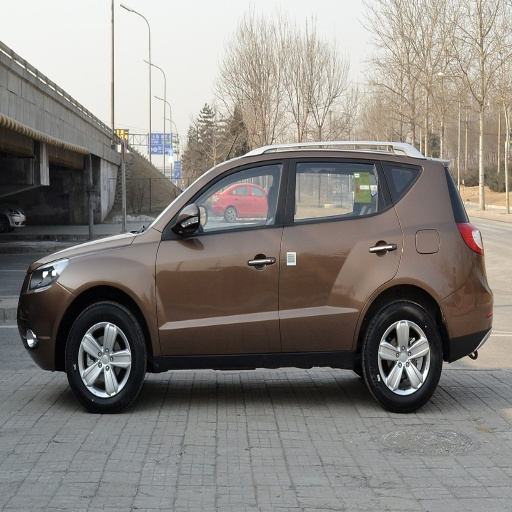back_left_door: (279, 153, 401, 348)
front_left_door: (156, 155, 290, 351)
